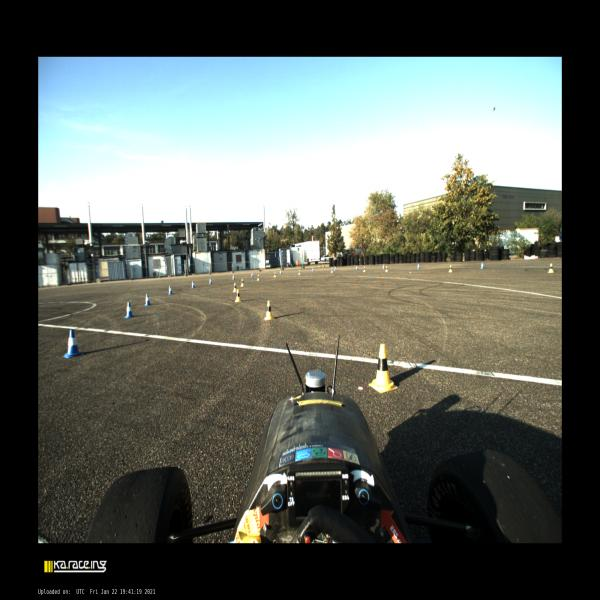blue_cone: (64, 330, 84, 358), (124, 302, 134, 318), (144, 294, 152, 306), (168, 285, 173, 295), (480, 261, 484, 269), (191, 281, 195, 288), (209, 278, 212, 284), (251, 272, 254, 278), (355, 265, 358, 271), (382, 264, 385, 270), (232, 275, 235, 280), (334, 266, 337, 271), (416, 264, 419, 269), (279, 270, 282, 274), (312, 267, 314, 272)
yellow_cone: (368, 344, 398, 393), (264, 300, 274, 320), (235, 289, 241, 302), (547, 263, 554, 273), (232, 283, 237, 292), (240, 278, 244, 286), (273, 272, 277, 278), (257, 274, 260, 281), (385, 265, 388, 272), (449, 265, 452, 272), (298, 269, 301, 275), (331, 267, 334, 273), (363, 266, 366, 272)
